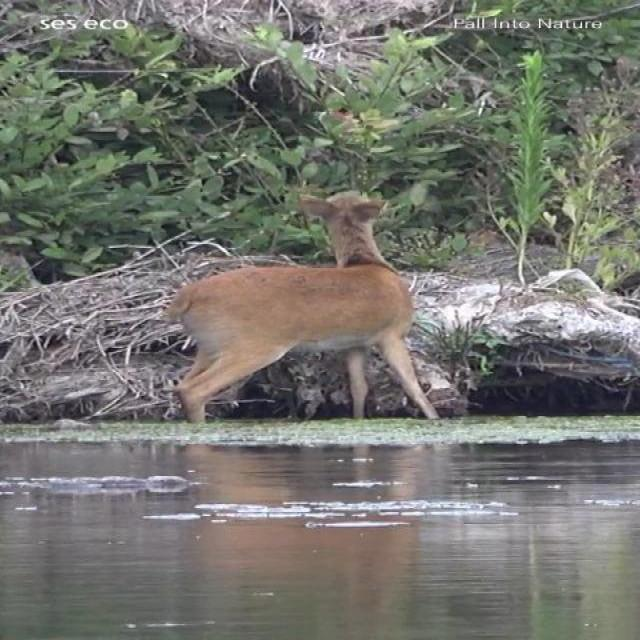deer: (164, 189, 446, 416)
